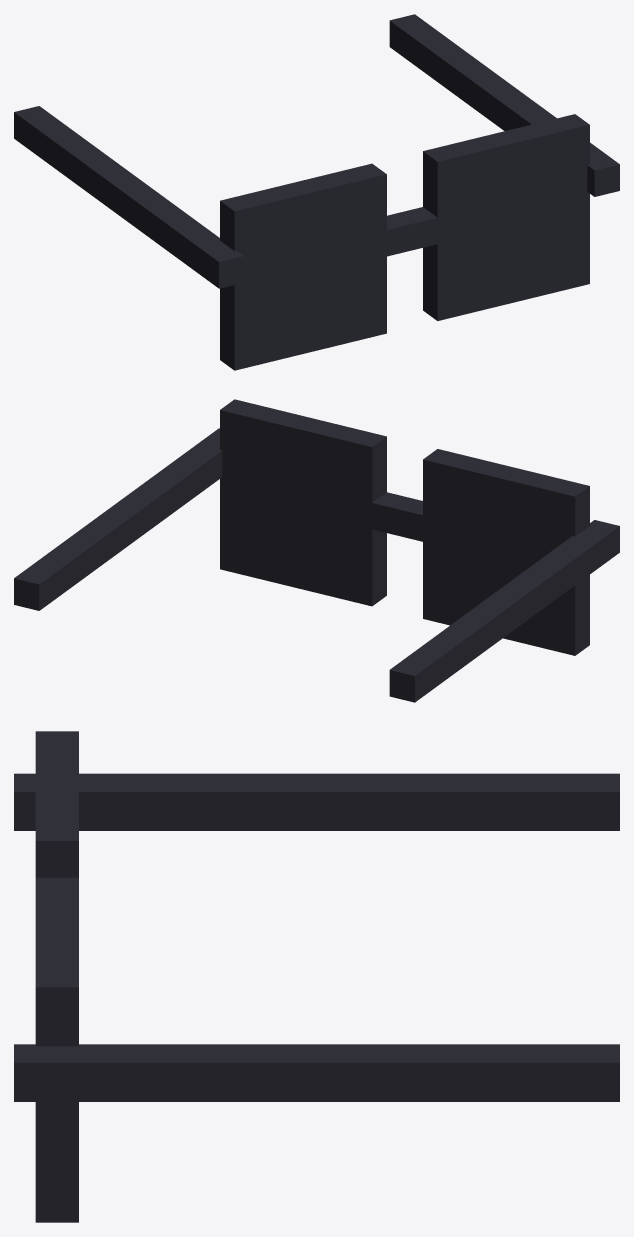
File: CatCafe_Accessory_Glasses.fbx
3 views of the same model, one above another, from view 1: azimuth 30°, elevation 25°; view 2: azimuth 150°, elevation 25°; view 3: azimuth 270°, elevation 25° (orthographic). The views are drawn at different scales.
Parts seen in each view (by area): view 1: CatCafe_Accessory_Glasses; view 2: CatCafe_Accessory_Glasses; view 3: CatCafe_Accessory_Glasses.
Part boxes in pixels (x1,y1,x2,y2): CatCafe_Accessory_Glasses: [14, 14, 619, 370]; CatCafe_Accessory_Glasses: [14, 399, 619, 702]; CatCafe_Accessory_Glasses: [14, 731, 619, 1222].
Size of the model in its own units: 0.79 by 0.3 by 0.7.
Materials: 1 (1 with a texture image).
